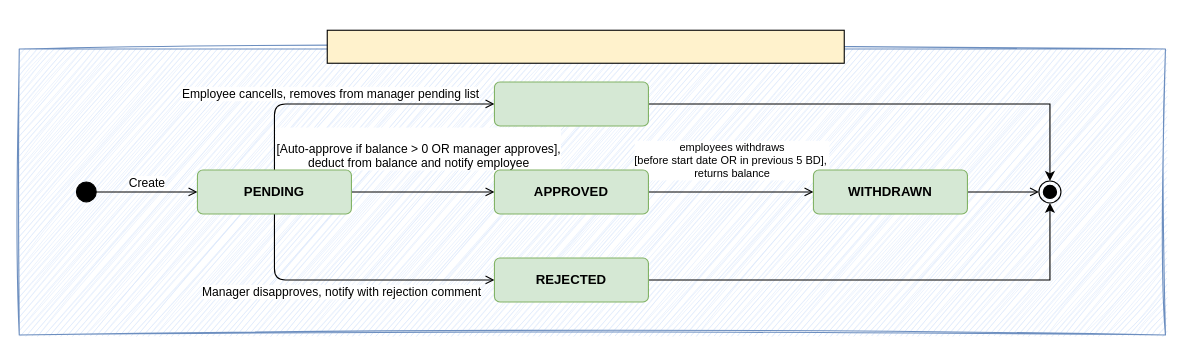
The diagram is 1185 pixels wide and 354 high, and some of its shapes have lost their labels. The shapes that lost their labels are listed below. From the top down, each one's centre as x and y in pixels, then its label:
At pixel 585 46: "Vacation Tracking System".
At pixel 570 103: "CANCELLED".
